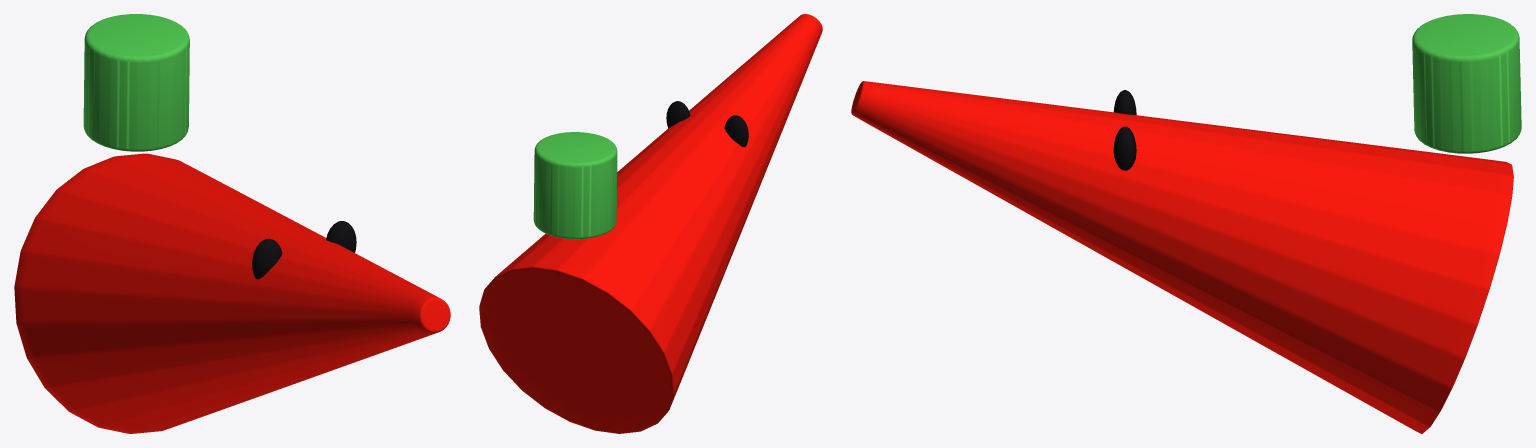
The model's file is Chili.glb.
3 renders of one model, left to right at view 1: azimuth 30°, elevation 25°; view 2: azimuth 150°, elevation 25°; view 3: azimuth 270°, elevation 25°, orthographic. The views are drawn at different scales.
Parts seen in each view (by area): view 1: Cone, Cylinder, Sphere, Sphere.001; view 2: Cone, Cylinder, Sphere, Sphere.001; view 3: Cone, Cylinder, Sphere.001.
Part boxes in pixels (left/top/right/bottom): Cone: left=14, top=153, right=450, bottom=433; Cylinder: left=83, top=14, right=189, bottom=151; Sphere: left=252, top=238, right=282, bottom=279; Sphere.001: left=326, top=221, right=356, bottom=252; Cone: left=479, top=14, right=822, bottom=433; Cylinder: left=533, top=132, right=617, bottom=239; Sphere: left=724, top=115, right=748, bottom=147; Sphere.001: left=666, top=101, right=690, bottom=128; Cone: left=851, top=81, right=1513, bottom=433; Cylinder: left=1412, top=14, right=1521, bottom=153; Sphere.001: left=1113, top=126, right=1136, bottom=170.
Bounding box in the file's own units: 0.1593 × 0.2367 × 0.3725.
